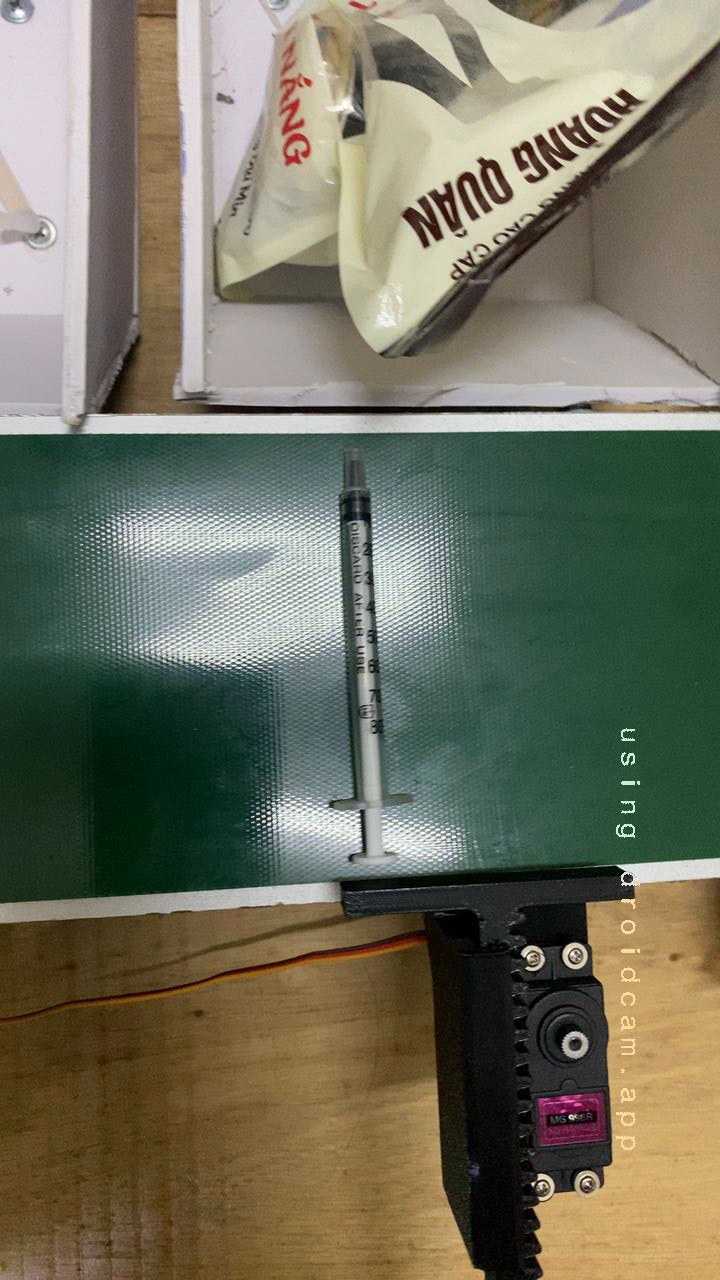syringe: (320, 475, 420, 823)
